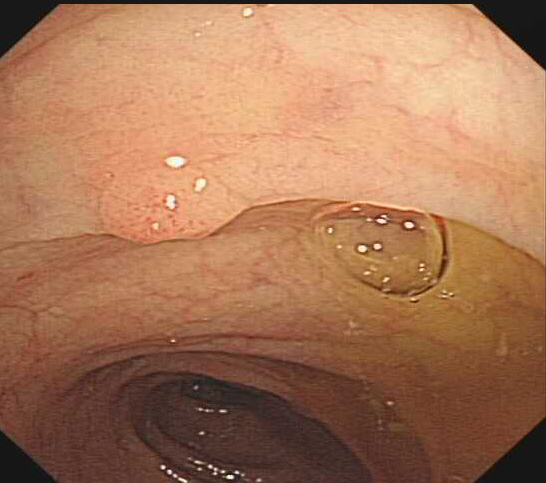others: (99, 162, 248, 246)
